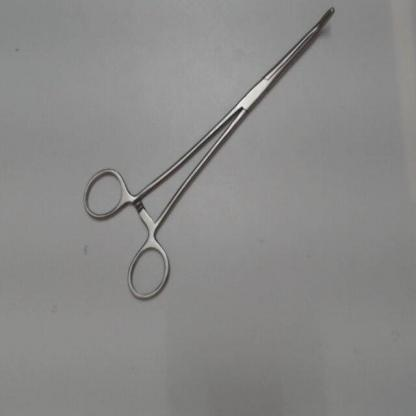Lahey Forceps: (79, 3, 340, 306)
